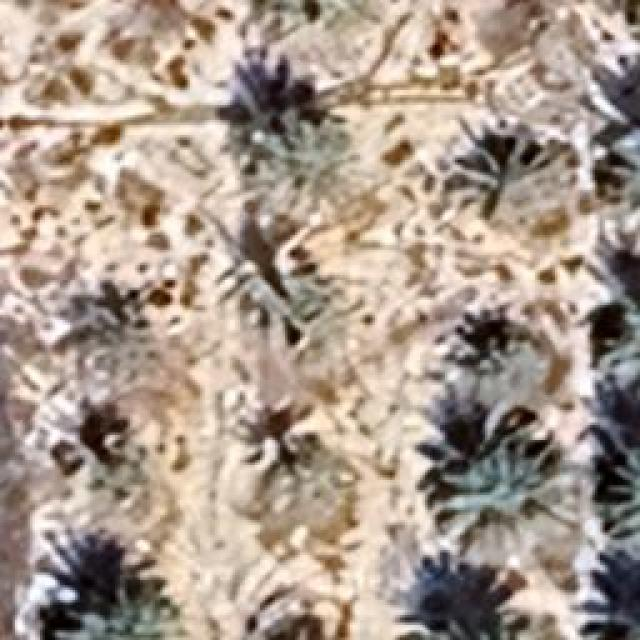PalmTree: (120, 44, 483, 628), (432, 445, 580, 575), (226, 395, 352, 515), (452, 119, 566, 229), (210, 212, 308, 320), (434, 324, 546, 418), (255, 112, 360, 212), (258, 264, 362, 356), (58, 400, 150, 502), (400, 567, 513, 640), (64, 298, 148, 370), (60, 590, 185, 638), (594, 121, 638, 235), (600, 444, 638, 568), (577, 574, 640, 640), (600, 300, 638, 392), (244, 604, 338, 640), (156, 23, 312, 44), (418, 622, 558, 640)
